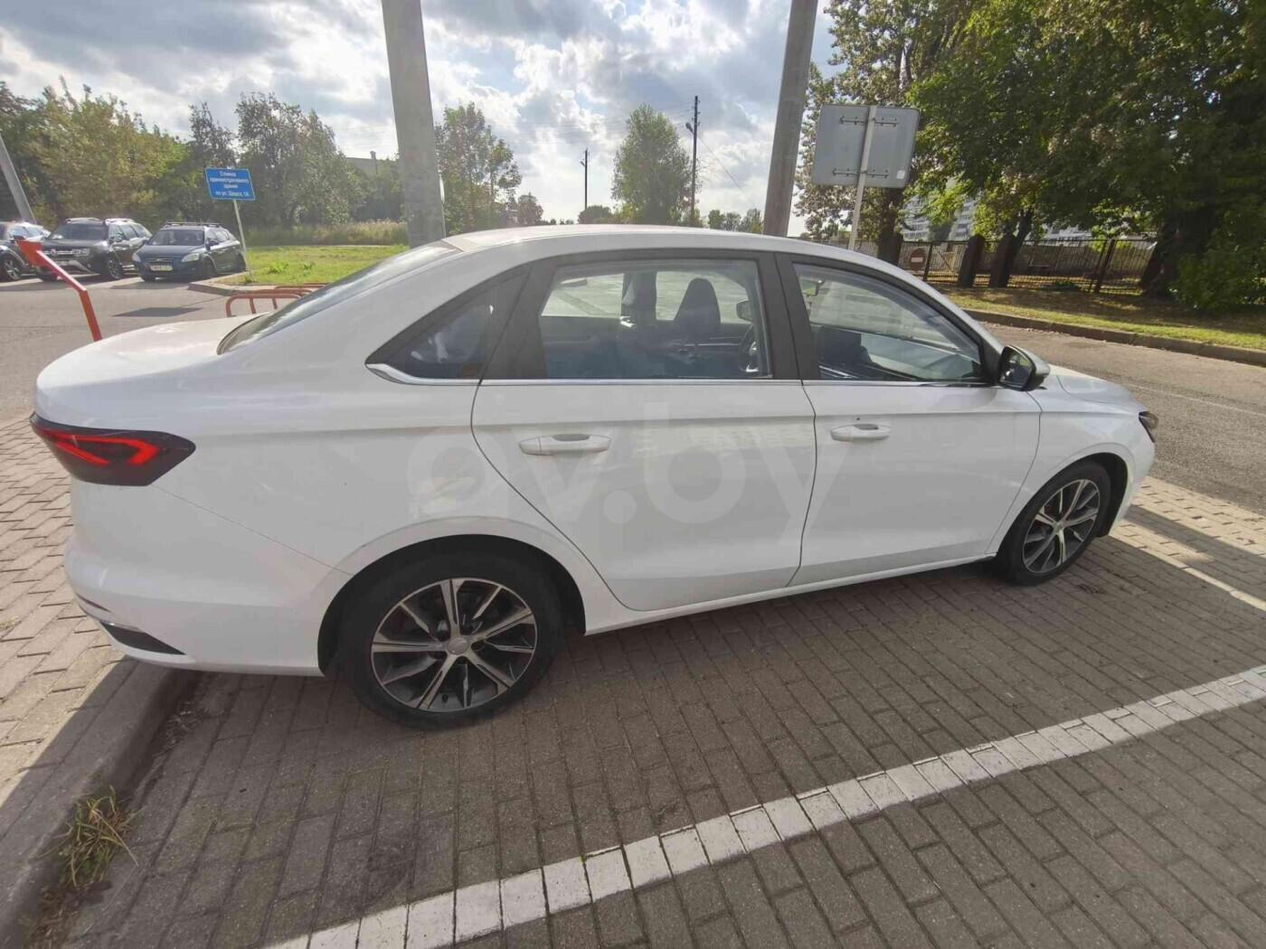Emgrand_2021: (38, 228, 1131, 718), (131, 221, 248, 283)
